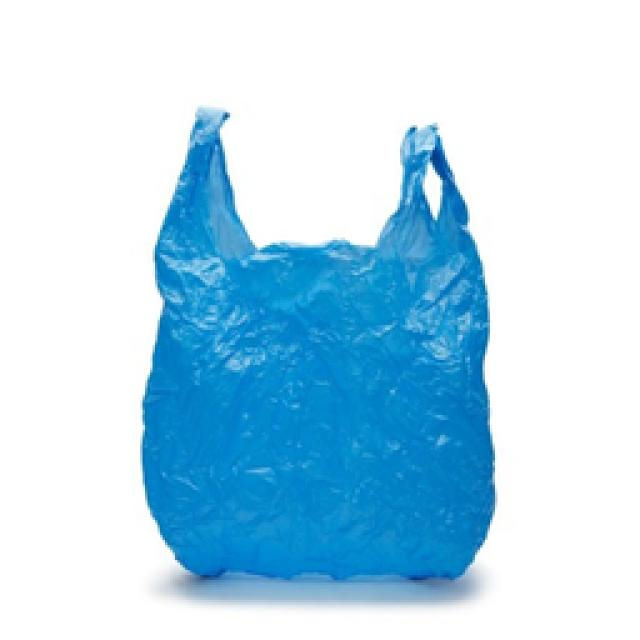plastic: (142, 110, 492, 578)
